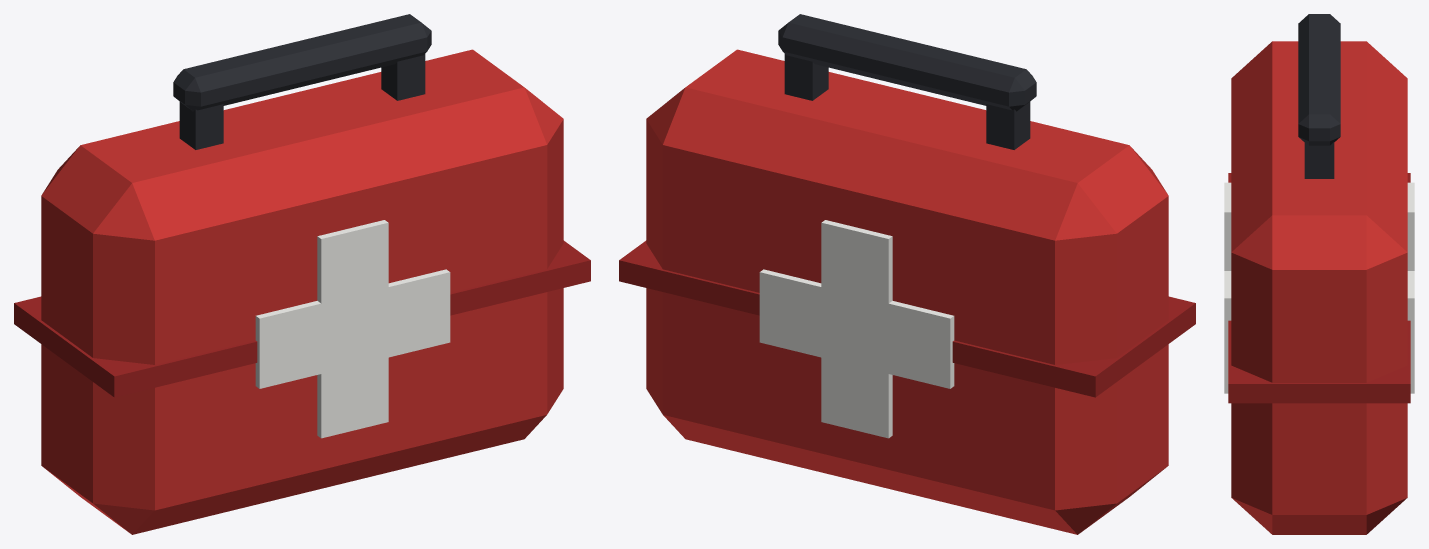
Rendered from Prop_Medkit.fbx.
3 views of the same model, side by side, from view 1: azimuth 30°, elevation 25°; view 2: azimuth 150°, elevation 25°; view 3: azimuth 270°, elevation 25° (orthographic). The views are drawn at different scales.
Visible parts, largest first — view 1: Prop_Medkit; view 2: Prop_Medkit; view 3: Prop_Medkit.
Part boxes in pixels (x1=…): Prop_Medkit: x1=14, y1=14, x2=590, y2=534; Prop_Medkit: x1=619, y1=14, x2=1195, y2=534; Prop_Medkit: x1=1224, y1=14, x2=1414, y2=534.
Size of the model in its own units: 0.425 by 0.36 by 0.162.
